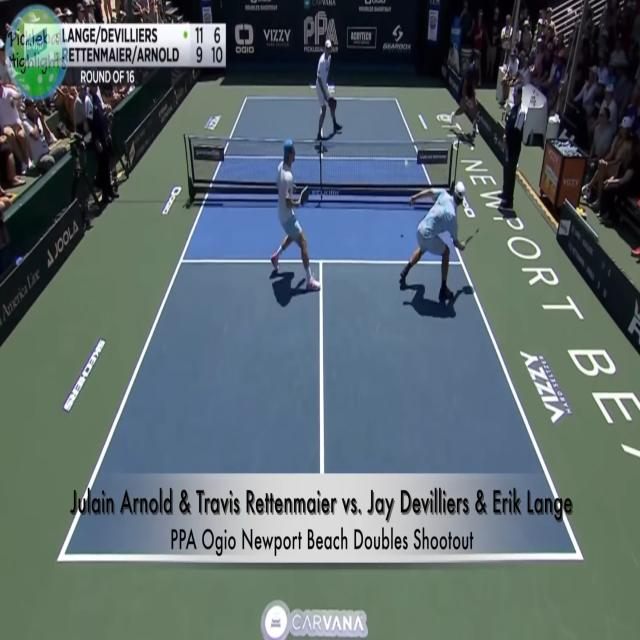ball: (470, 144, 474, 152)
